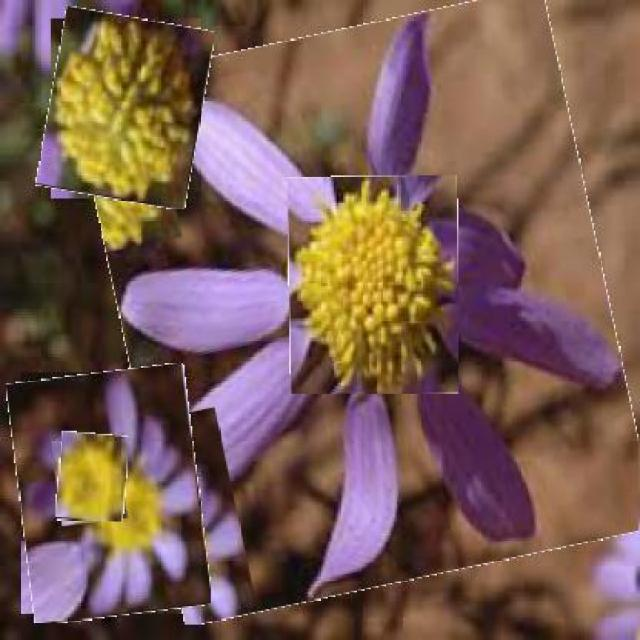Flower: (97, 7, 631, 604), (13, 368, 205, 620), (289, 176, 460, 396), (43, 13, 209, 205), (57, 433, 128, 522)
